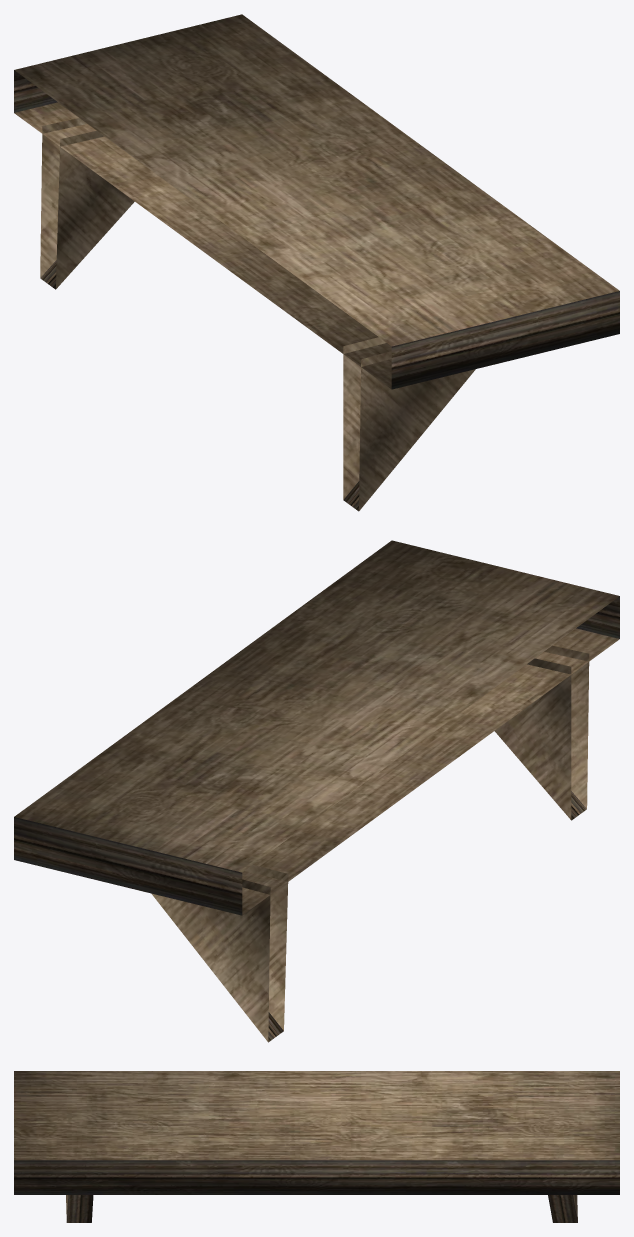
File: GS_VOB_SHELF_YELLOW_01_KOZA.glb
The picture shows the model from 3 angles, top to bottom: view 1: azimuth 30°, elevation 25°; view 2: azimuth 150°, elevation 25°; view 3: azimuth 270°, elevation 25°; orthographic projection. The views are drawn at different scales.
Parts seen in each view (by area): view 1: Mesh; view 2: Mesh; view 3: Mesh.
Part boxes in pixels (<box>): Mesh: <box>14,14,619,511</box>; Mesh: <box>14,540,619,1042</box>; Mesh: <box>14,1071,619,1222</box>.
Size of the model in its own units: 0.6657 by 0.5274 by 1.91.
Materials: 2 (2 with a texture image).
